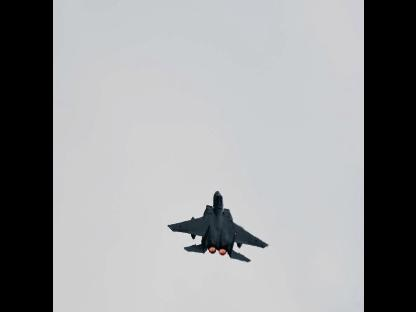F117: (167, 190, 269, 262)
